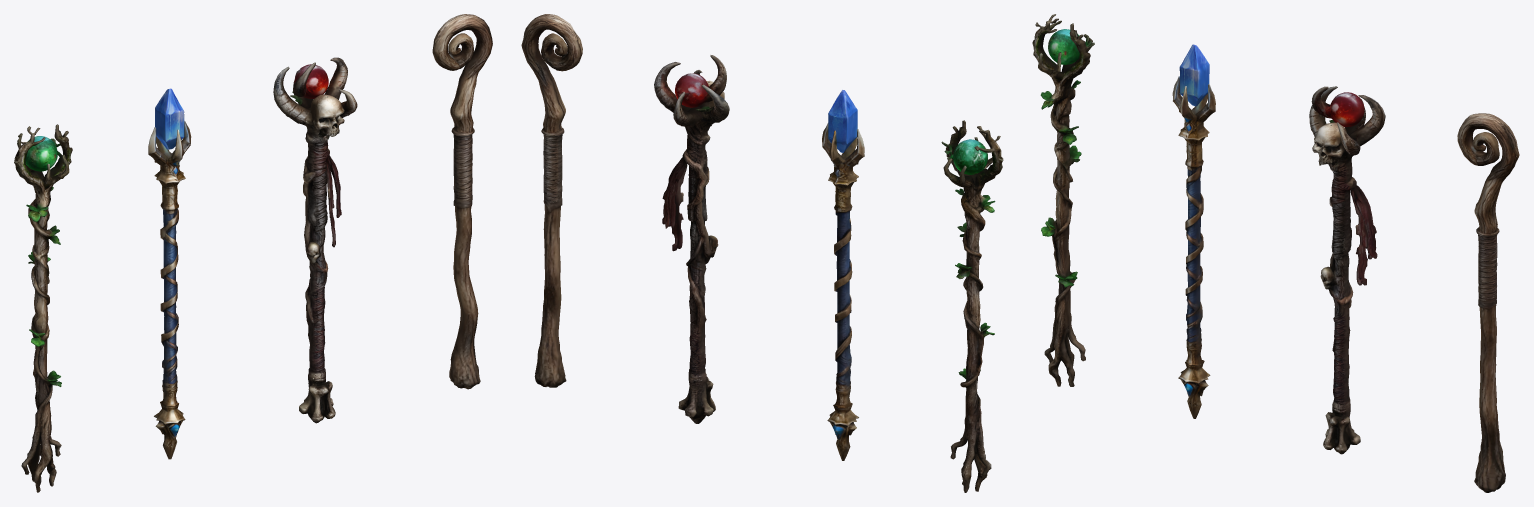
Rendered from staffs_3_common.glb.
The picture shows the model from 3 angles, left to right: view 1: azimuth 30°, elevation 25°; view 2: azimuth 150°, elevation 25°; view 3: azimuth 330°, elevation 25°; orthographic projection.
Parts seen in each view (by area): view 1: tripo_node_19356c74-8c73-4967-8cfb-65397579654b; view 2: tripo_node_19356c74-8c73-4967-8cfb-65397579654b; view 3: tripo_node_19356c74-8c73-4967-8cfb-65397579654b.
Part boxes in pixels (x1,y1,x2,y2): tripo_node_19356c74-8c73-4967-8cfb-65397579654b: [14, 14, 492, 492]; tripo_node_19356c74-8c73-4967-8cfb-65397579654b: [521, 14, 1003, 492]; tripo_node_19356c74-8c73-4967-8cfb-65397579654b: [1032, 14, 1519, 492].
Size of the model in its own units: 1 by 0.7452 by 0.1469.
Materials: 1 (1 with a texture image).
